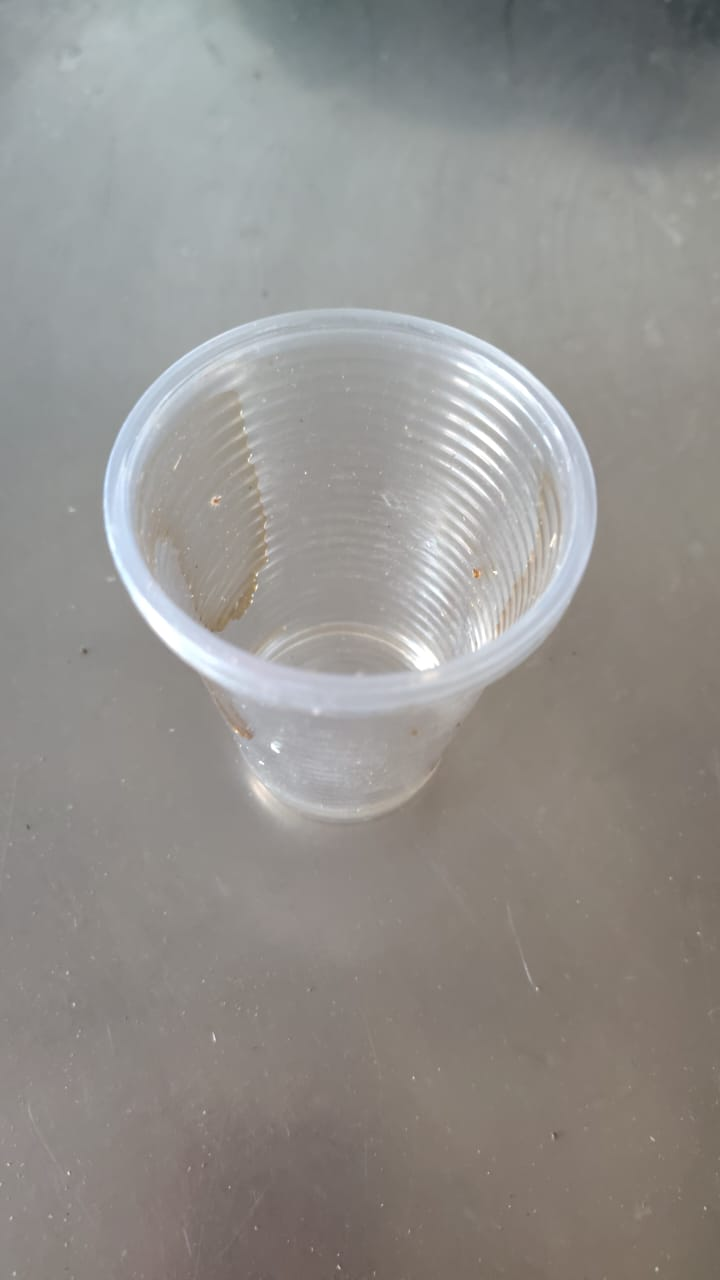Plastico: (100, 303, 596, 825)
